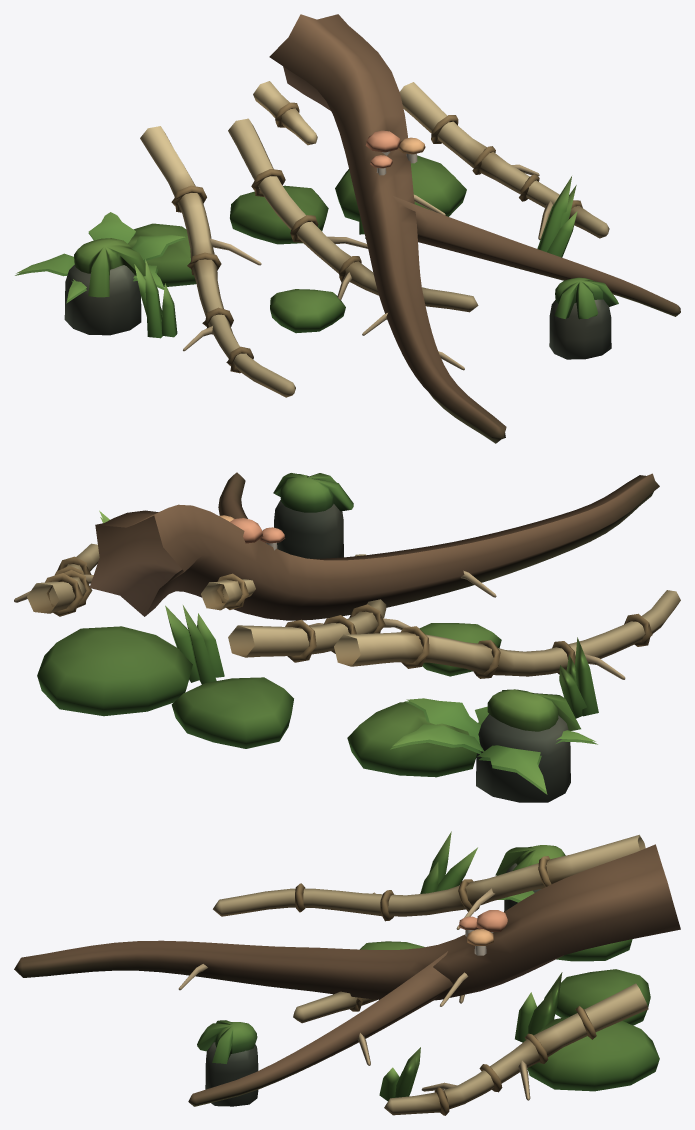
File: dg-bamboo-rootTangle-v1.glb
3 renders of one model, top to bottom at view 1: azimuth 30°, elevation 25°; view 2: azimuth 150°, elevation 25°; view 3: azimuth 270°, elevation 25°, orthographic. The views are drawn at different scales.
Parts seen in each view (by area): view 1: body, stone, leaf; view 2: body, stone, leaf; view 3: body, stone, leaf.
Part boxes in pixels (x1,y1,x2,y2): body: (140, 14, 680, 443); stone: (64, 155, 618, 359); leaf: (15, 176, 577, 338); body: (14, 472, 680, 679); stone: (37, 473, 580, 802); leaf: (99, 510, 598, 794); body: (14, 834, 680, 1115); stone: (197, 845, 659, 1106); leaf: (379, 831, 562, 1101).
Size of the model in its own units: 2.23 by 0.8843 by 2.53.
